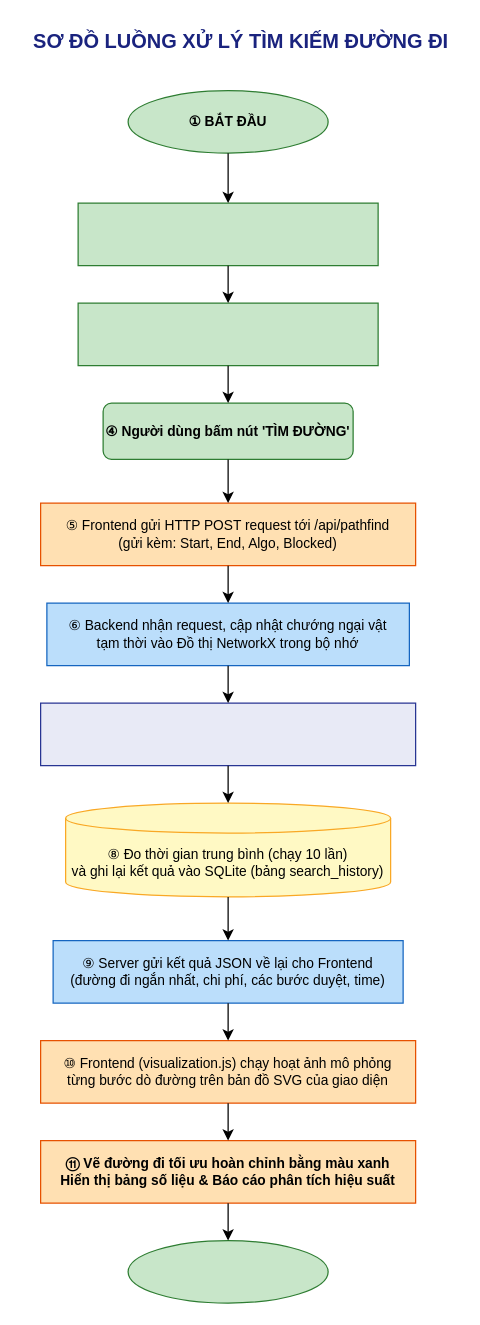
Image size: 480x1325. Some labels were removed from this diagram. Here are the shapes that lost their labels. From the top down, the centre of each, then its label:
At pixel 227 234: "② Người dùng click bản đồ để chọn Điểm đi (Start) & Điểm đến (End)".
At pixel 227 334: "③ Chọn thuật toán tìm đường và chặn các tuyến đường (nếu có)".
At pixel 227 734: "⑦ Thực thi thuật toán được chọn (ví dụ A*) Ghi lại toàn bộ các bước duyệt đồ thị".
At pixel 227 1271: "⑫ HOÀN TẤT TÌM KIẾM".
